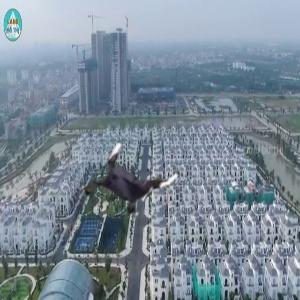drone: (85, 138, 176, 229)
